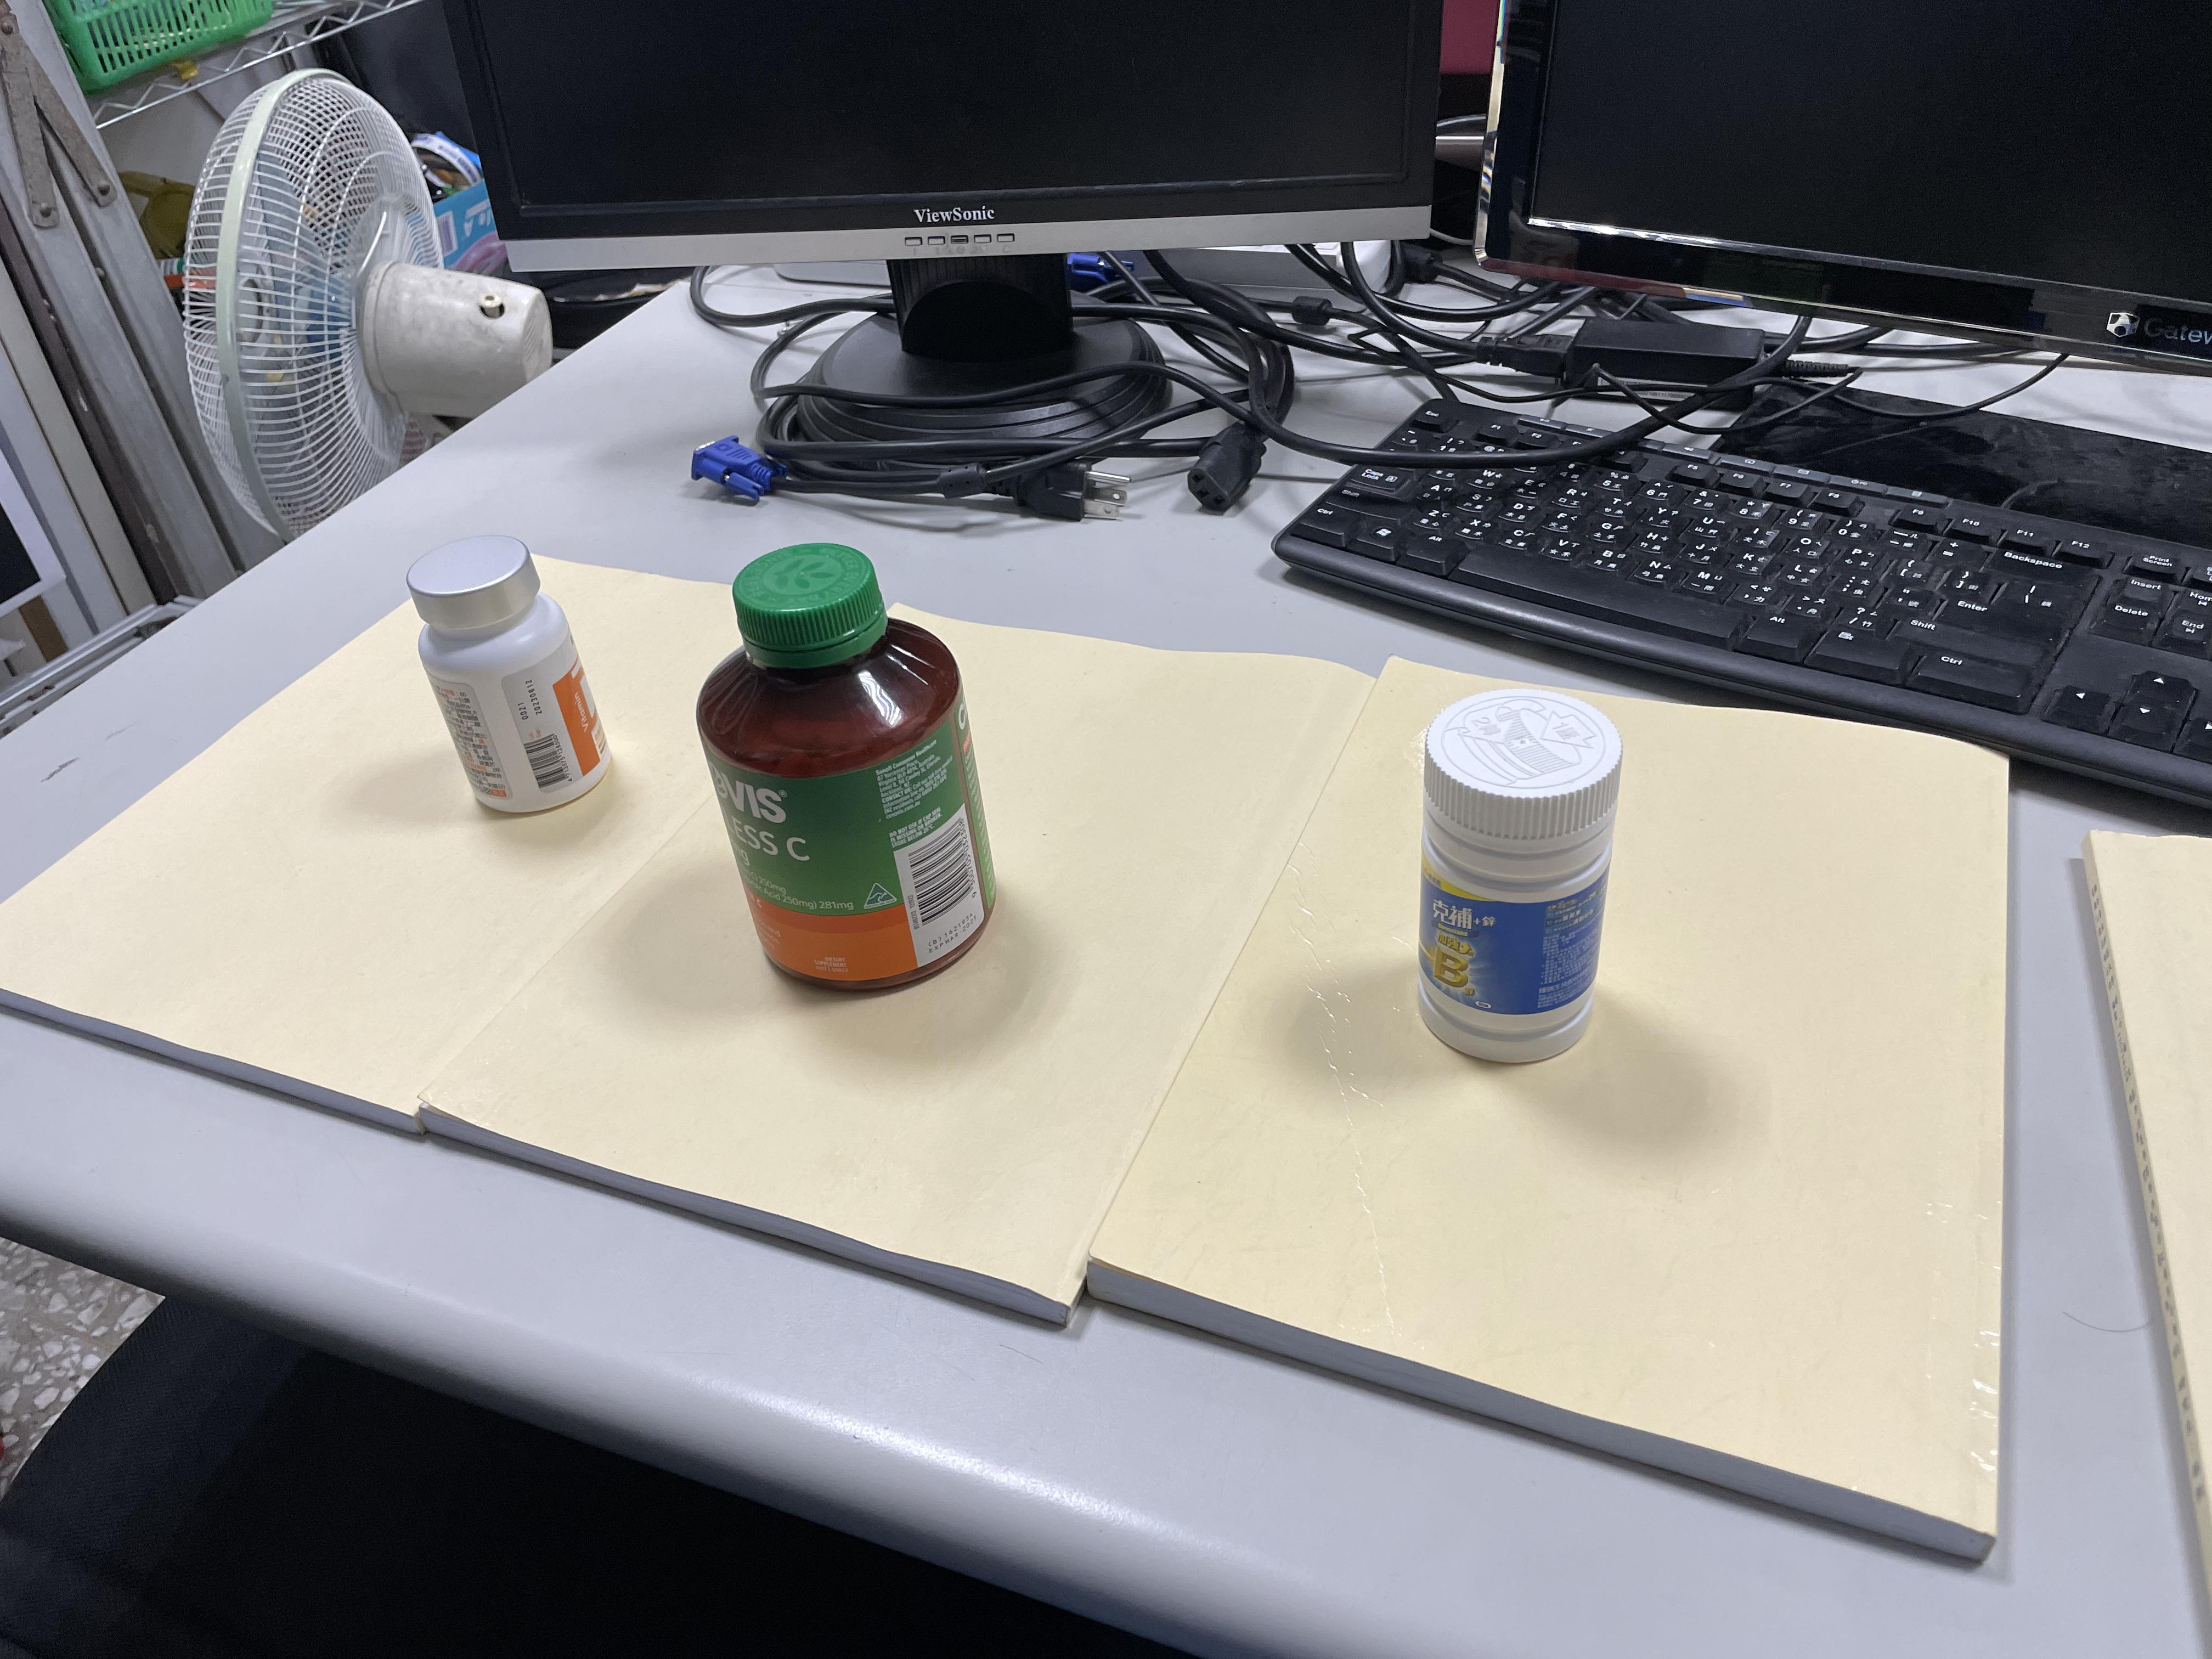jar: (672, 559, 1012, 976), (1374, 660, 1651, 1080), (371, 545, 629, 836)
